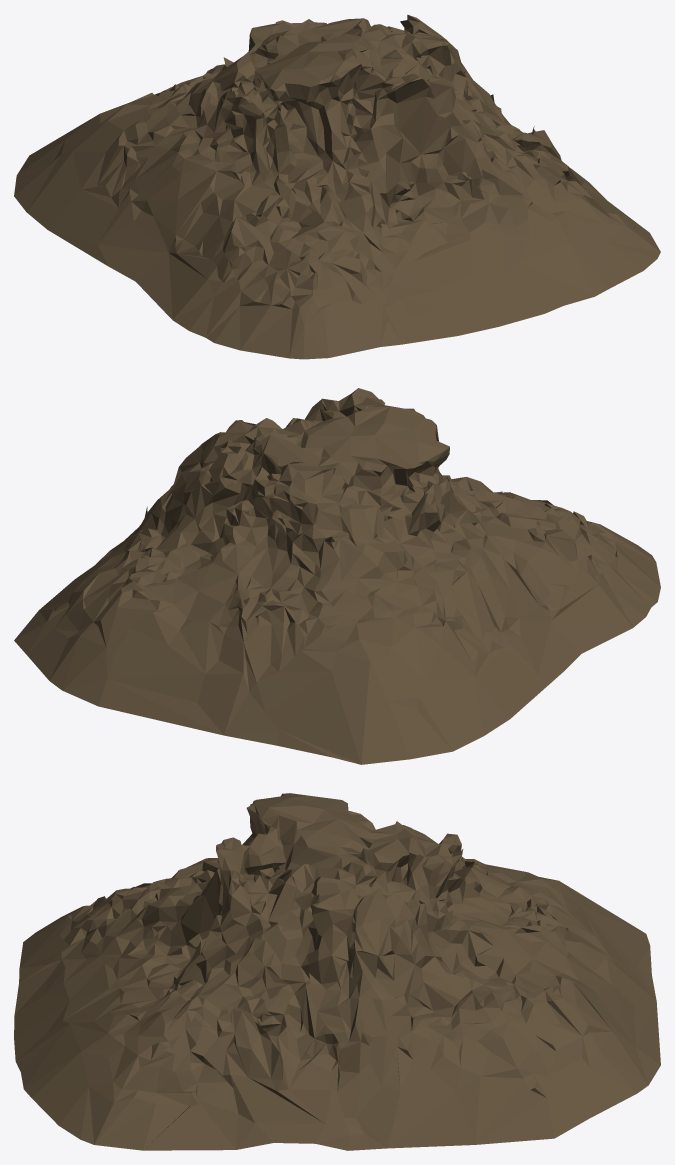
The model's file is Stump.glb.
3 renders of one model, top to bottom at view 1: azimuth 30°, elevation 25°; view 2: azimuth 150°, elevation 25°; view 3: azimuth 270°, elevation 25°, orthographic. The views are drawn at different scales.
Visible parts, largest first — view 1: tree_stump_01; view 2: tree_stump_01; view 3: tree_stump_01.
Part boxes in pixels (x1=…): tree_stump_01: x1=14, y1=14, x2=660, y2=359; tree_stump_01: x1=14, y1=388, x2=660, y2=764; tree_stump_01: x1=14, y1=793, x2=660, y2=1150.
Size of the model in its own units: 1.43 by 0.5686 by 1.59.
